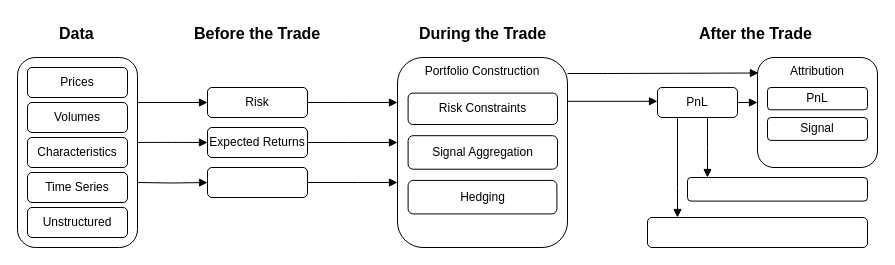
The diagram is 895 pixels wide and 265 high, and some of its shapes have lost their labels. Here are the shapes that lost their labels. From the top down, the centre of each, then its label:
At pixel 257 182: "Cost".
At pixel 777 188: "Intertemporal Volatility".
At pixel 757 232: "Leverage".
